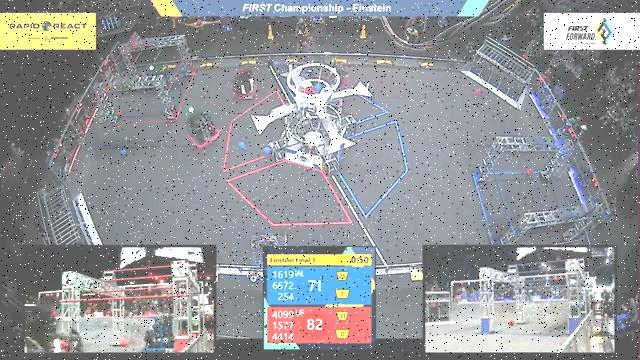Robot: (245, 227, 294, 271), (179, 105, 222, 153), (308, 55, 347, 95), (135, 61, 183, 91), (227, 62, 257, 101)
